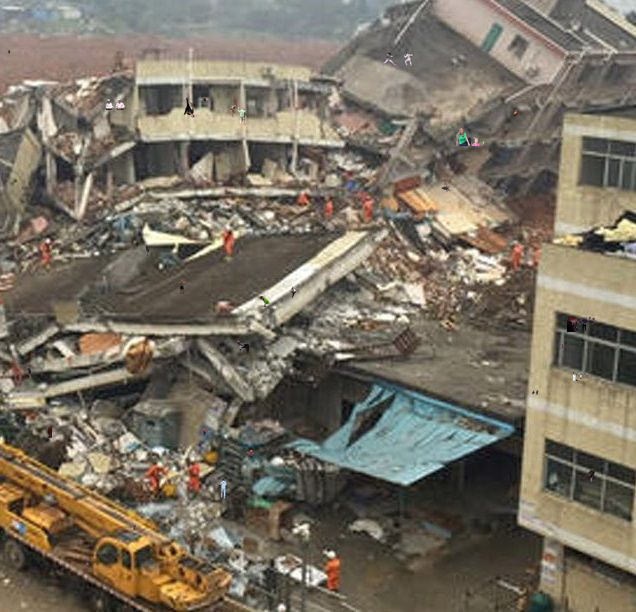Human: (380, 52, 414, 67), (456, 128, 484, 146), (567, 315, 596, 332), (230, 105, 246, 125), (183, 96, 195, 118), (26, 364, 43, 379), (105, 99, 125, 110), (218, 479, 227, 499), (254, 296, 270, 307), (441, 177, 452, 192), (237, 341, 249, 354), (573, 372, 588, 381), (178, 279, 186, 294), (532, 390, 550, 396), (588, 468, 595, 482), (245, 450, 254, 460), (145, 244, 150, 258), (47, 425, 52, 438), (291, 287, 296, 298), (514, 110, 519, 117), (131, 524, 136, 530), (203, 429, 207, 436), (85, 561, 89, 565), (561, 344, 563, 351), (8, 50, 10, 56), (346, 295, 350, 298), (203, 97, 206, 101), (604, 583, 607, 586)
